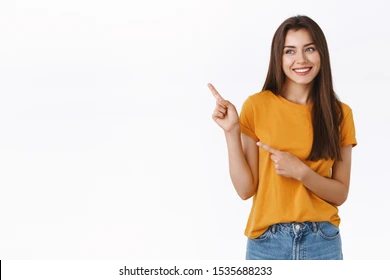pointing_gesture: (254, 141, 307, 181), (205, 81, 241, 133)
